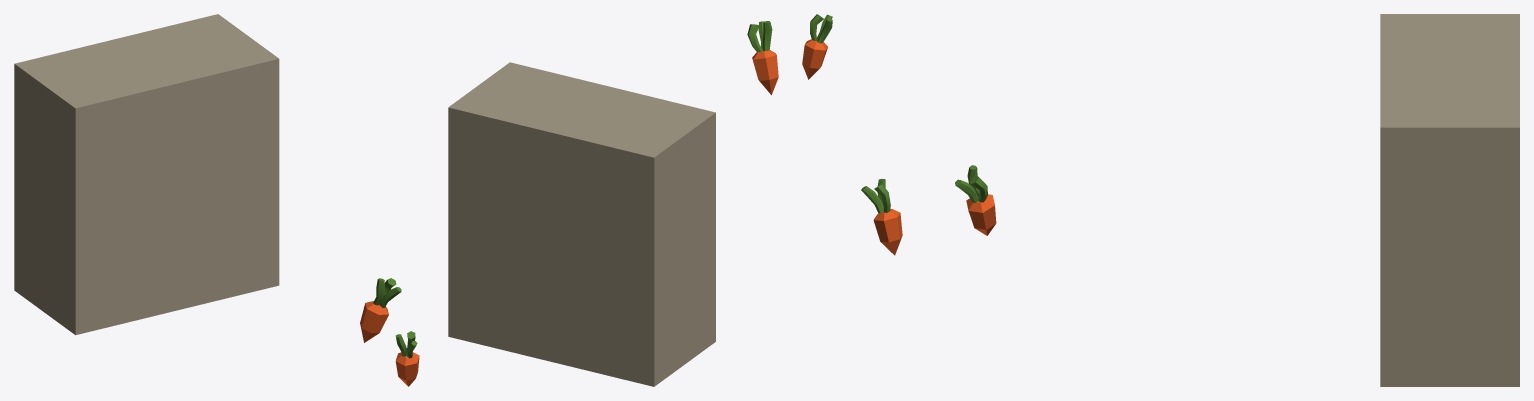
3 renders of one model, left to right at view 1: azimuth 30°, elevation 25°; view 2: azimuth 150°, elevation 25°; view 3: azimuth 270°, elevation 25°, orthographic. The views are drawn at different scales.
Visible parts, largest first — view 1: Box15679_wall3_0, Line1456_red2_0, Line1425_red2_0, Line1456_green_0, Line1425_green_0; view 2: Box15679_wall3_0, Line1456_red2_0, Line1425_red2_0, Line1456_green_0, Line1425_green_0; view 3: Box15679_wall3_0, Line1425_red2_0, Line1456_red2_0, Line1456_green_0, Line1425_green_0.
Boxes of the visible parts, x1=… form: Box15679_wall3_0: x1=14, y1=14, x2=279, y2=335; Line1456_red2_0: x1=360, y1=301, x2=388, y2=342; Line1425_red2_0: x1=395, y1=352, x2=419, y2=386; Line1456_green_0: x1=373, y1=278, x2=401, y2=307; Line1425_green_0: x1=395, y1=331, x2=417, y2=358; Box15679_wall3_0: x1=448, y1=62, x2=715, y2=386; Line1456_red2_0: x1=752, y1=50, x2=778, y2=94; Line1425_red2_0: x1=802, y1=39, x2=827, y2=79; Line1456_green_0: x1=747, y1=21, x2=772, y2=52; Line1425_green_0: x1=810, y1=14, x2=832, y2=43; Box15679_wall3_0: x1=1380, y1=14, x2=1519, y2=386; Line1425_red2_0: x1=873, y1=208, x2=902, y2=255; Line1456_red2_0: x1=966, y1=194, x2=996, y2=235; Line1456_green_0: x1=955, y1=165, x2=987, y2=202; Line1425_green_0: x1=861, y1=179, x2=890, y2=213.
Bounding box in the file's own units: 541 × 575 × 1325.
